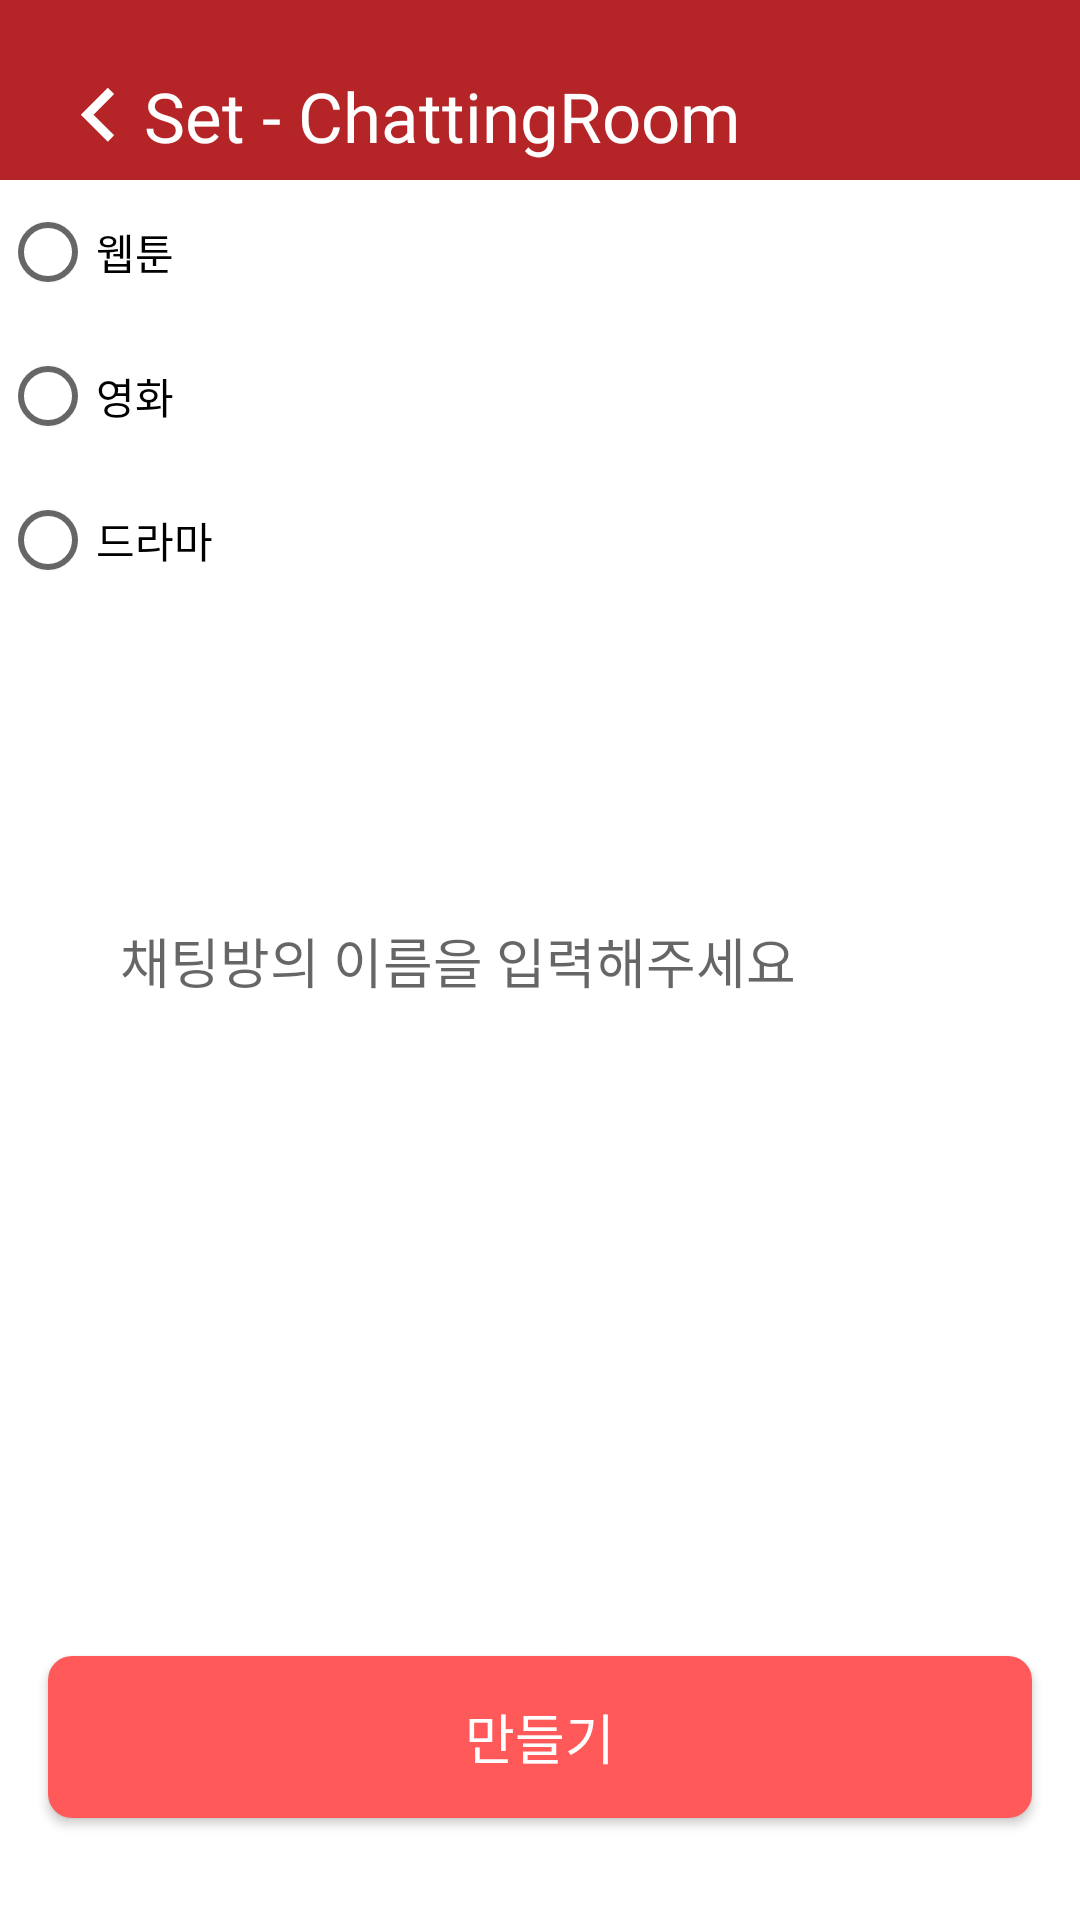

Named icons in this screenshot (1080px×1920px) and their centers, point (x, y):
back: point (97, 115)
